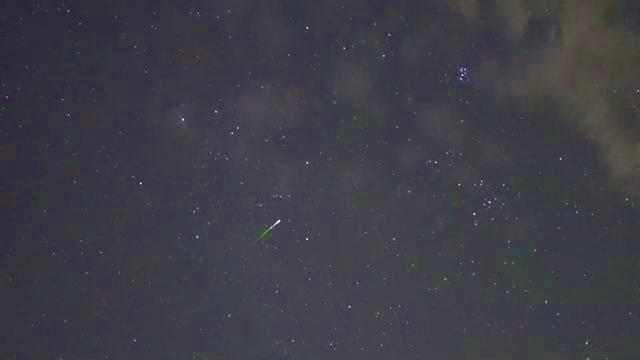meteorite: (238, 213, 297, 246)
